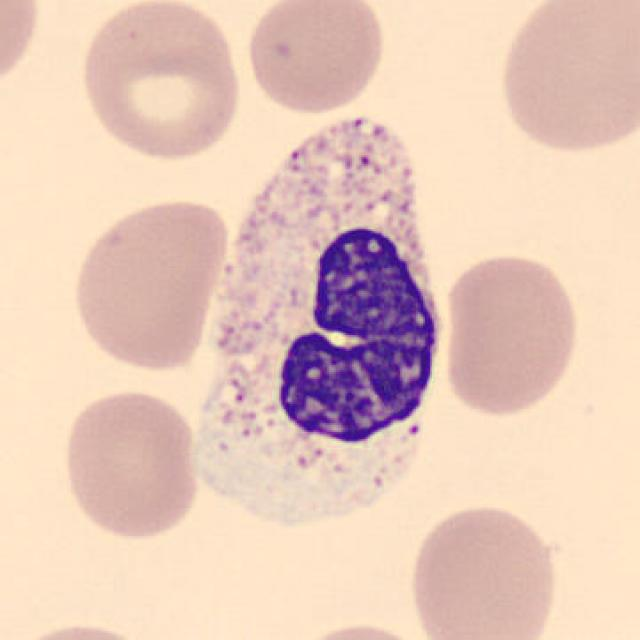Neutrophil: (195, 92, 457, 515)
RBC: (66, 192, 231, 376), (75, 0, 247, 164), (437, 248, 583, 420), (57, 386, 204, 543), (404, 499, 566, 640), (492, 2, 638, 158), (242, 0, 389, 118), (0, 1, 44, 102), (5, 617, 164, 640), (281, 617, 439, 640)
